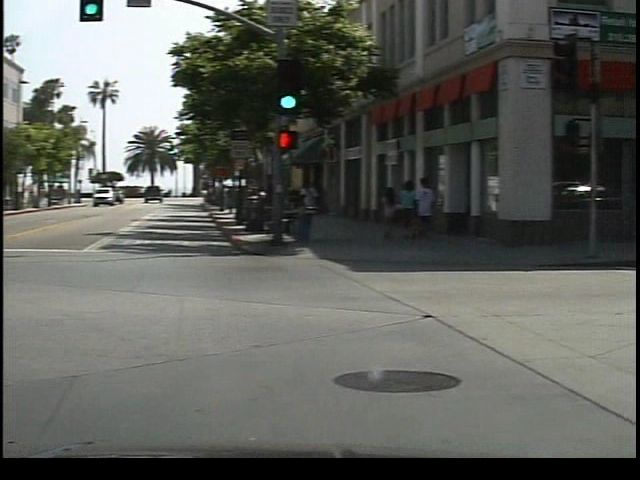person: (306, 176, 333, 234)
